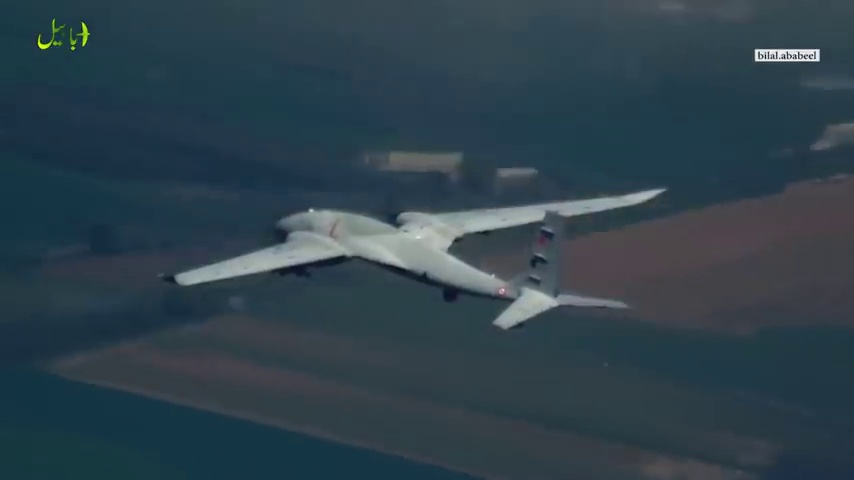military drone: (156, 188, 668, 330)
